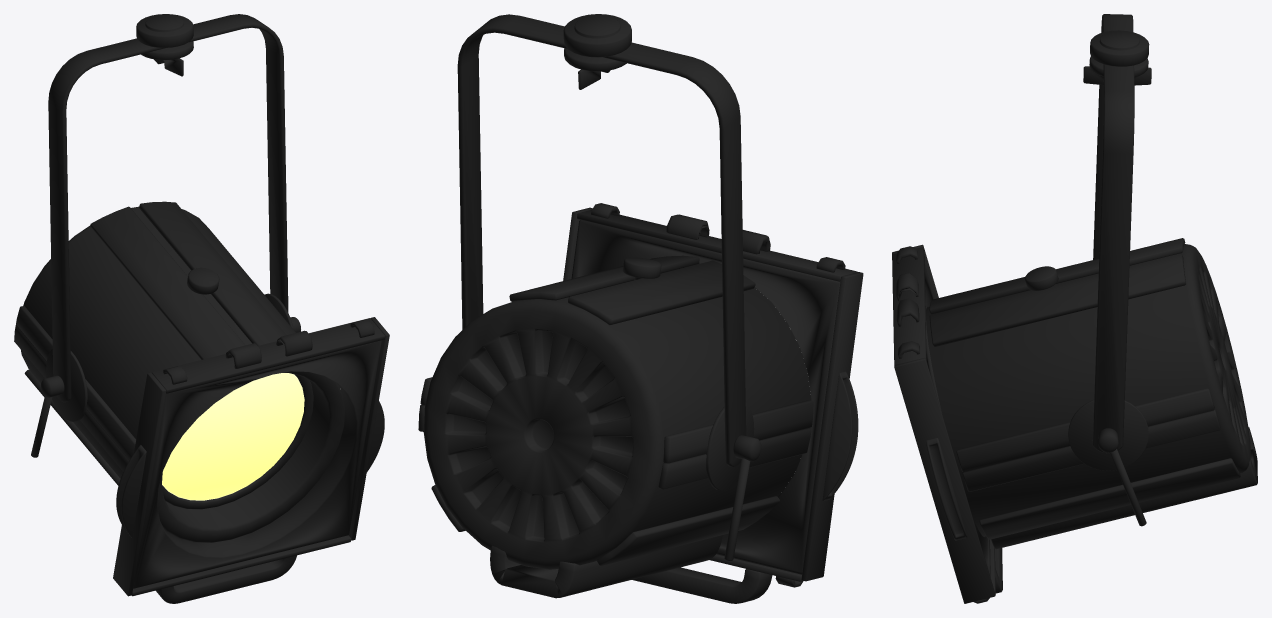
The model's file is softLightHanging.glb.
The picture shows the model from 3 angles, left to right: view 1: azimuth 30°, elevation 25°; view 2: azimuth 150°, elevation 25°; view 3: azimuth 270°, elevation 25°; orthographic projection. The views are drawn at different scales.
Parts seen in each view (by area): view 1: SoftLight_08.003, SoftLight_08.001, SoftLight_08.004, SoftLight_08.005; view 2: SoftLight_08.003, SoftLight_08.001, SoftLight_08.005; view 3: SoftLight_08.003, SoftLight_08.001, SoftLight_08.005, SoftLight_08.002.
Part boxes in pixels (<box>): SoftLight_08.003: <box>14,201,384,603</box>; SoftLight_08.001: <box>31,14,300,457</box>; SoftLight_08.004: <box>162,373,304,500</box>; SoftLight_08.005: <box>113,317,389,596</box>; SoftLight_08.003: <box>418,203,858,603</box>; SoftLight_08.001: <box>457,14,761,560</box>; SoftLight_08.005: <box>563,207,863,581</box>; SoftLight_08.003: <box>896,238,1257,603</box>; SoftLight_08.001: <box>1068,14,1149,526</box>; SoftLight_08.005: <box>892,244,995,603</box>; SoftLight_08.002: <box>1083,66,1151,85</box>.
Size of the model in its own units: 0.651 by 1.23 by 0.7623.
